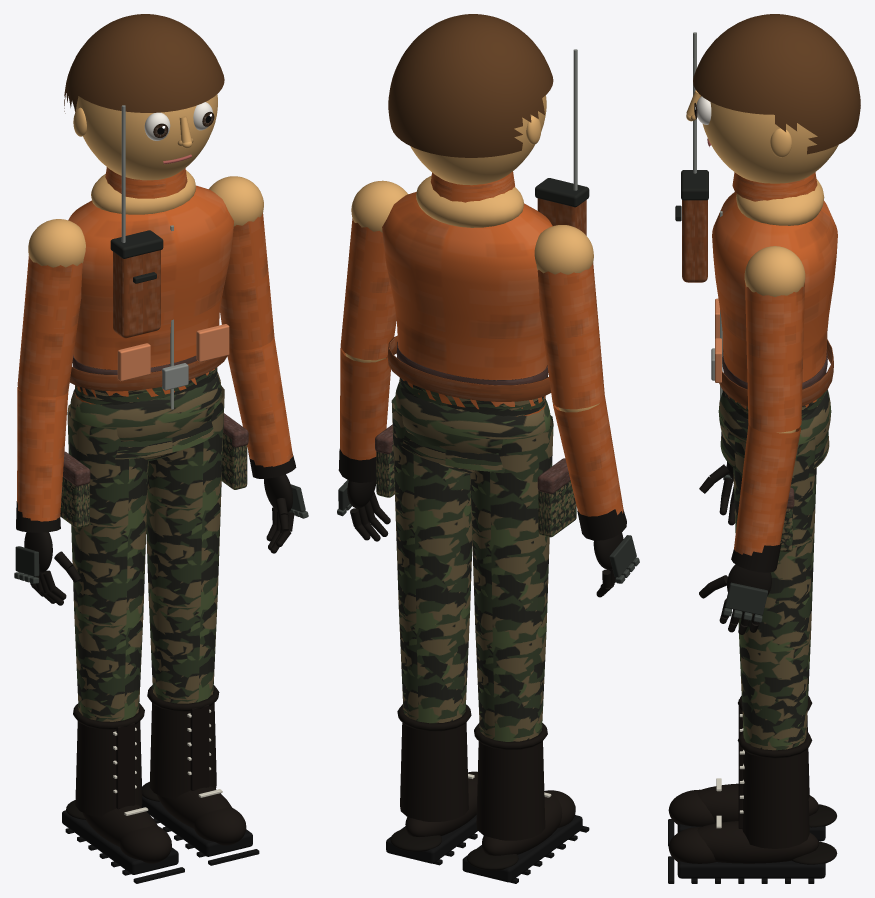
File: 05-radio-portative.glb
The picture shows the model from 3 angles, left to right: view 1: azimuth 30°, elevation 25°; view 2: azimuth 150°, elevation 25°; view 3: azimuth 270°, elevation 25°; orthographic projection. The views are drawn at different scales.
Bounding box in the file's own units: 0.6344 × 1.77 × 0.3715.
28 materials, 5 textured.
